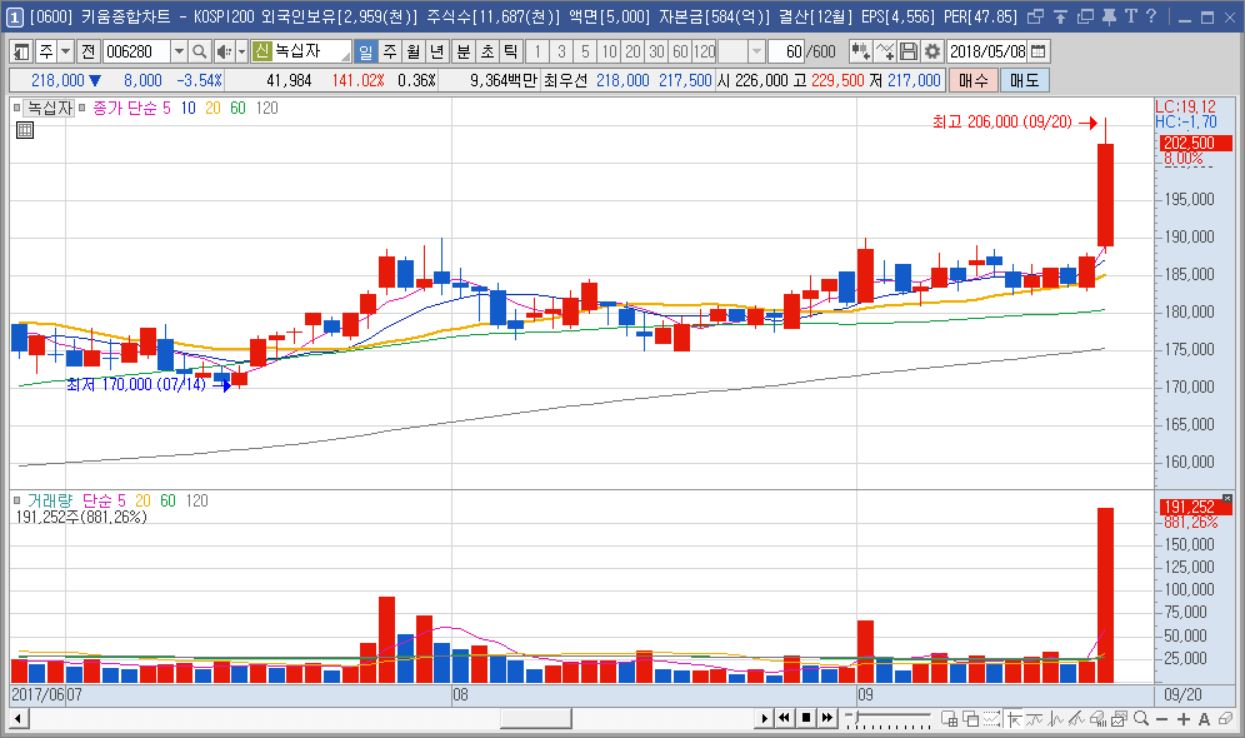up: (231, 109, 1116, 682)
